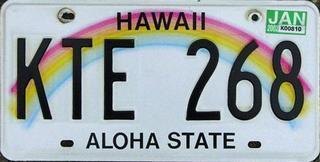placa de veiculo: (7, 0, 313, 160)
